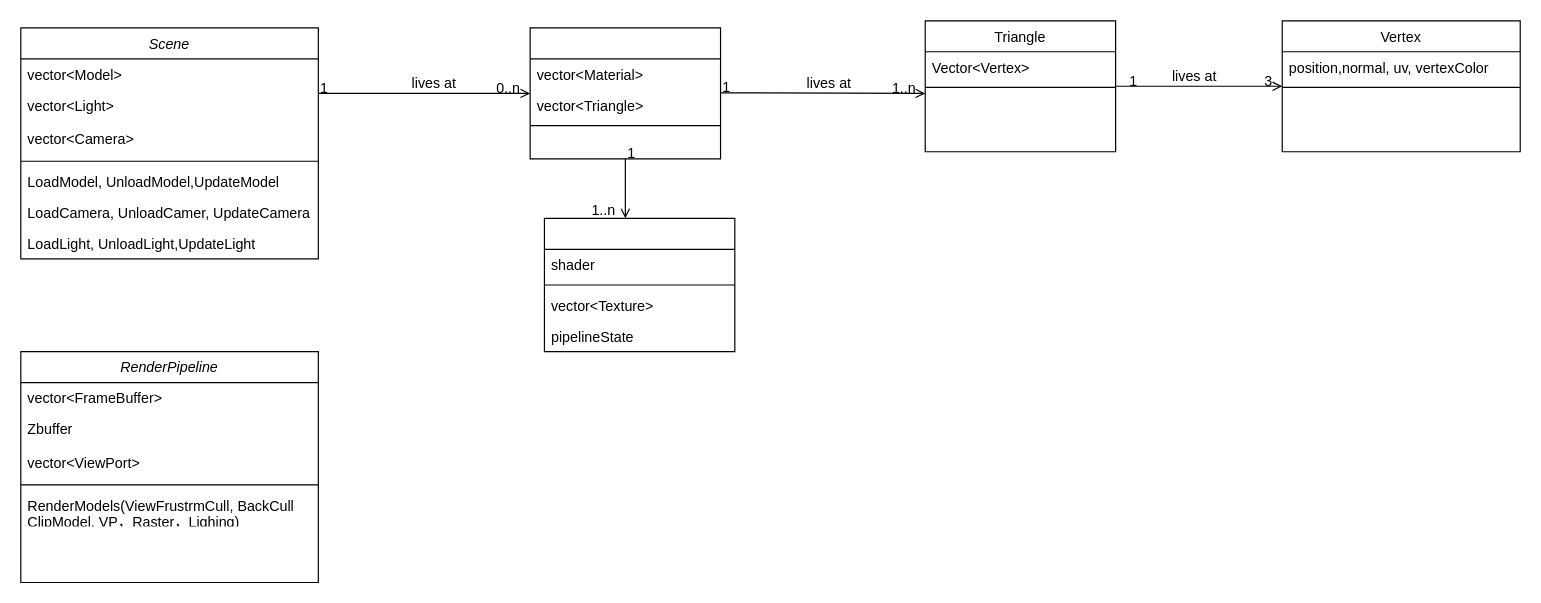
Image size: 1541x603. Some labels were removed from this diagram. The shapes that lost their labels are listed below. From the top down, each one's box as (x1, y1, x2, y2) in pixels, then its label:
(529, 27, 721, 159): Model
(543, 217, 735, 352): Material
